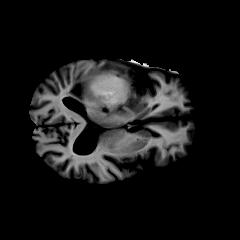glioma: (75, 72, 139, 111)
